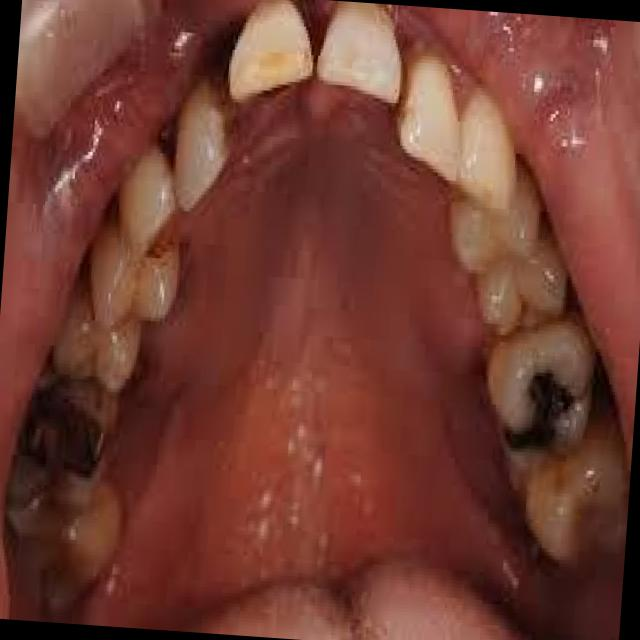Caries: (0, 524, 88, 618), (16, 387, 103, 477), (490, 373, 568, 453)
Tooth: (517, 425, 628, 577), (0, 485, 120, 618), (5, 369, 117, 511), (488, 320, 593, 463), (451, 164, 541, 277), (88, 227, 180, 331), (318, 2, 402, 103), (479, 239, 567, 332), (228, 0, 313, 96), (398, 56, 461, 180), (52, 305, 141, 388), (173, 83, 231, 210), (456, 91, 518, 209), (119, 149, 177, 259)
